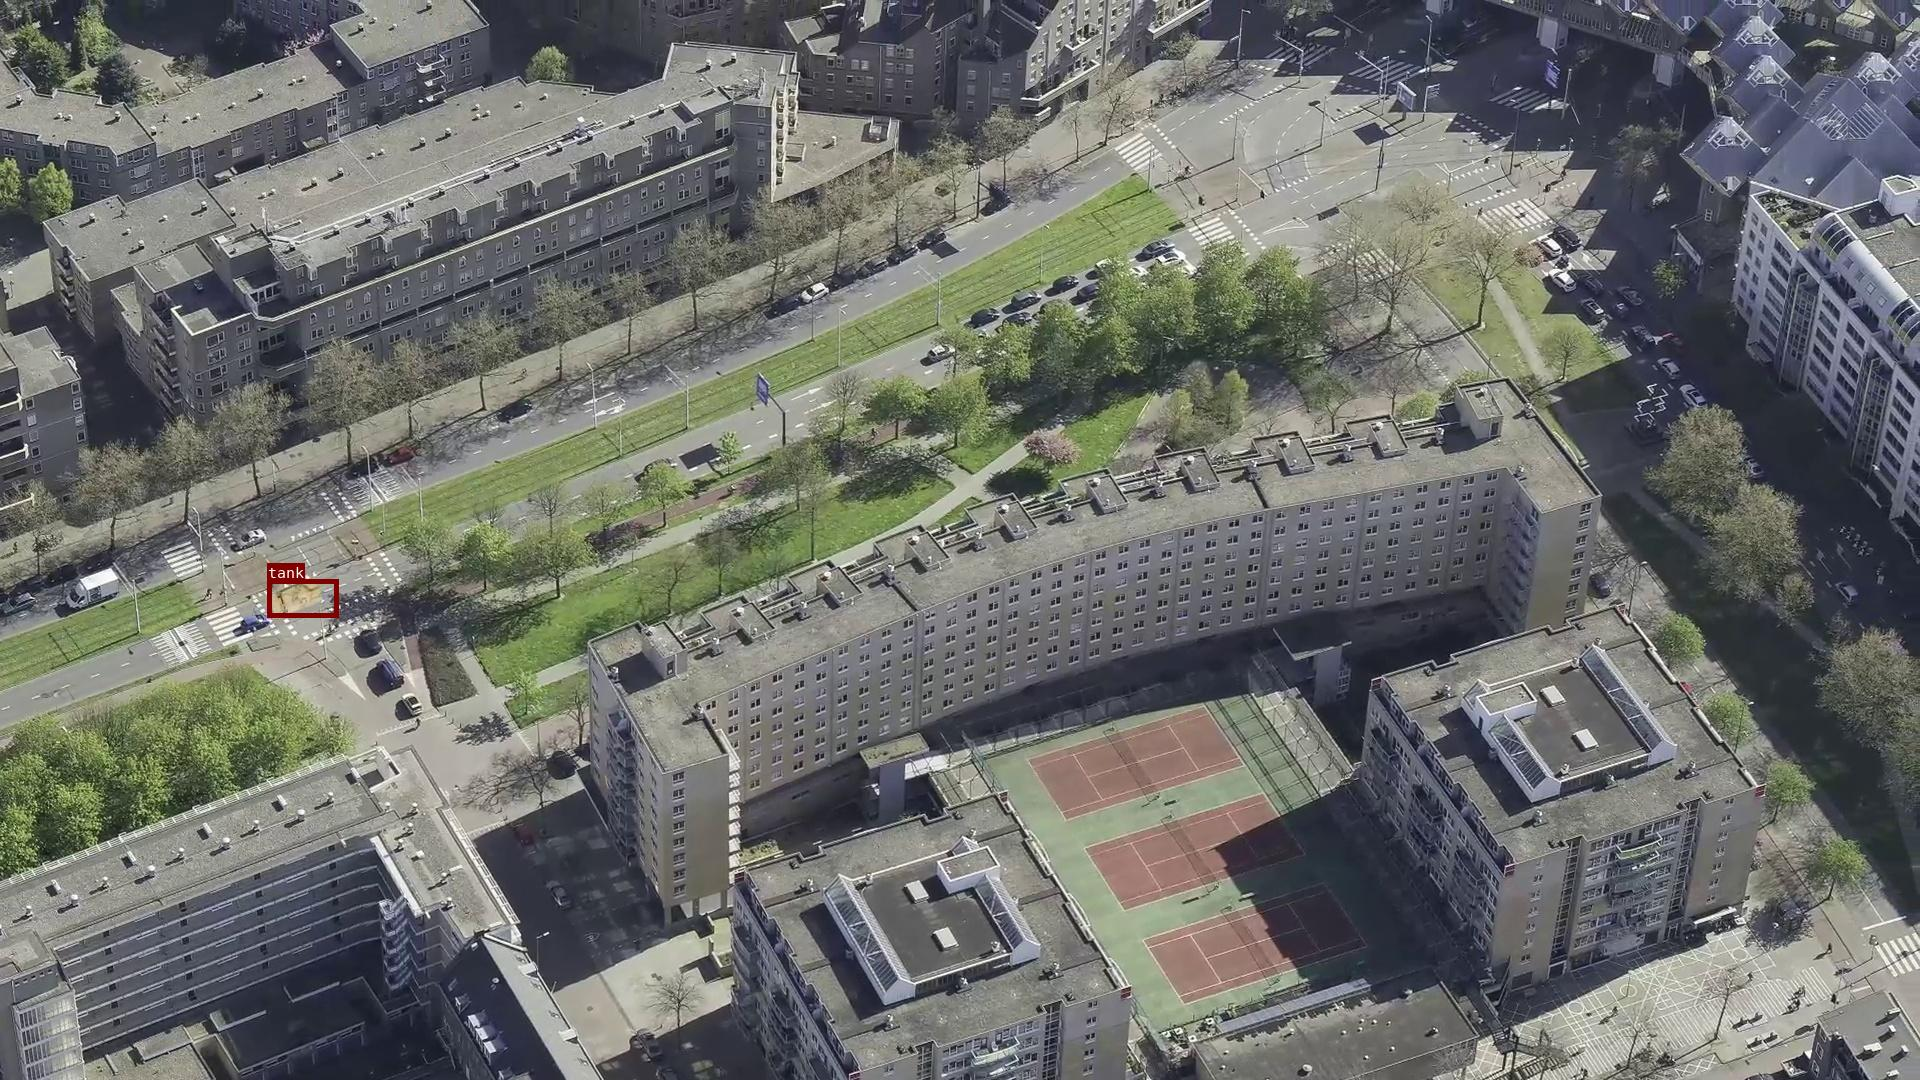tank: (266, 579, 338, 617)
